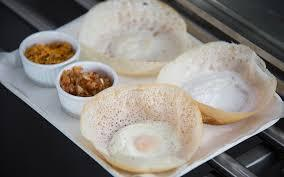Hoppers: (79, 78, 218, 177)
